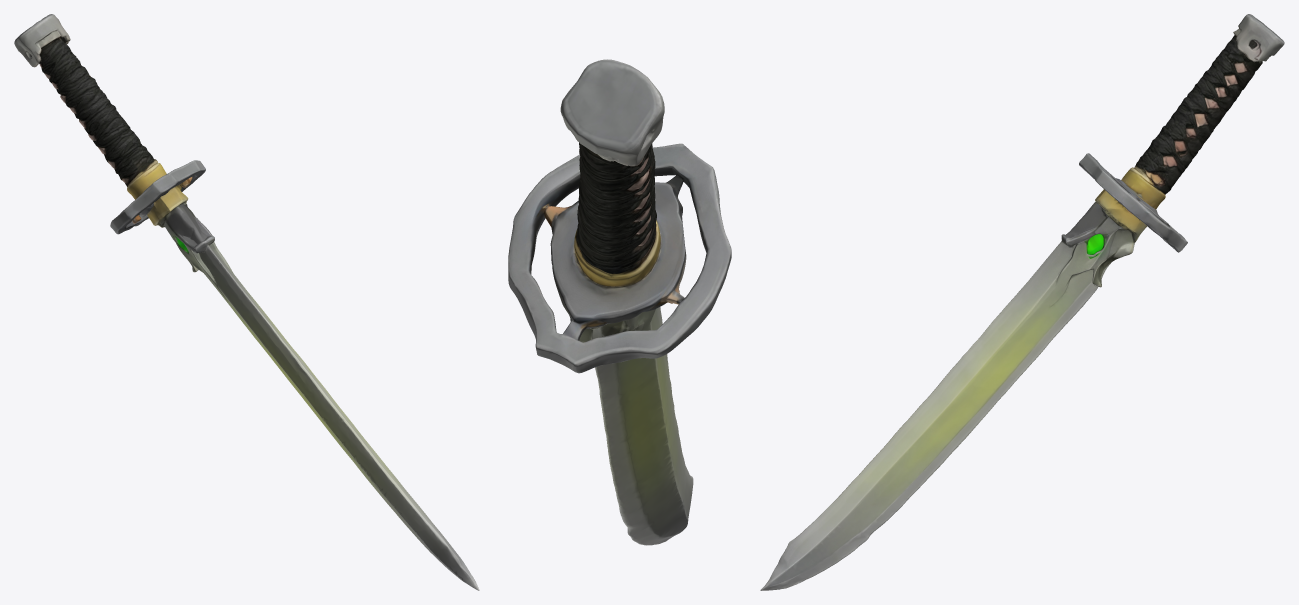
3 views of the same model, side by side, from view 1: azimuth 30°, elevation 25°; view 2: azimuth 150°, elevation 25°; view 3: azimuth 270°, elevation 25° (orthographic). The views are drawn at different scales.
Parts seen in each view (by area): view 1: tripo_node_f43b4b42-6c2b-4c3d-8ac3-d42a4daa062a; view 2: tripo_node_f43b4b42-6c2b-4c3d-8ac3-d42a4daa062a; view 3: tripo_node_f43b4b42-6c2b-4c3d-8ac3-d42a4daa062a.
Part boxes in pixels (<box>): tripo_node_f43b4b42-6c2b-4c3d-8ac3-d42a4daa062a: <box>14,14,479,590</box>; tripo_node_f43b4b42-6c2b-4c3d-8ac3-d42a4daa062a: <box>508,59,731,545</box>; tripo_node_f43b4b42-6c2b-4c3d-8ac3-d42a4daa062a: <box>760,14,1284,590</box>.
Size of the model in its own units: 0.3387 by 0.65 by 0.6527.
Materials: 1 (1 with a texture image).
